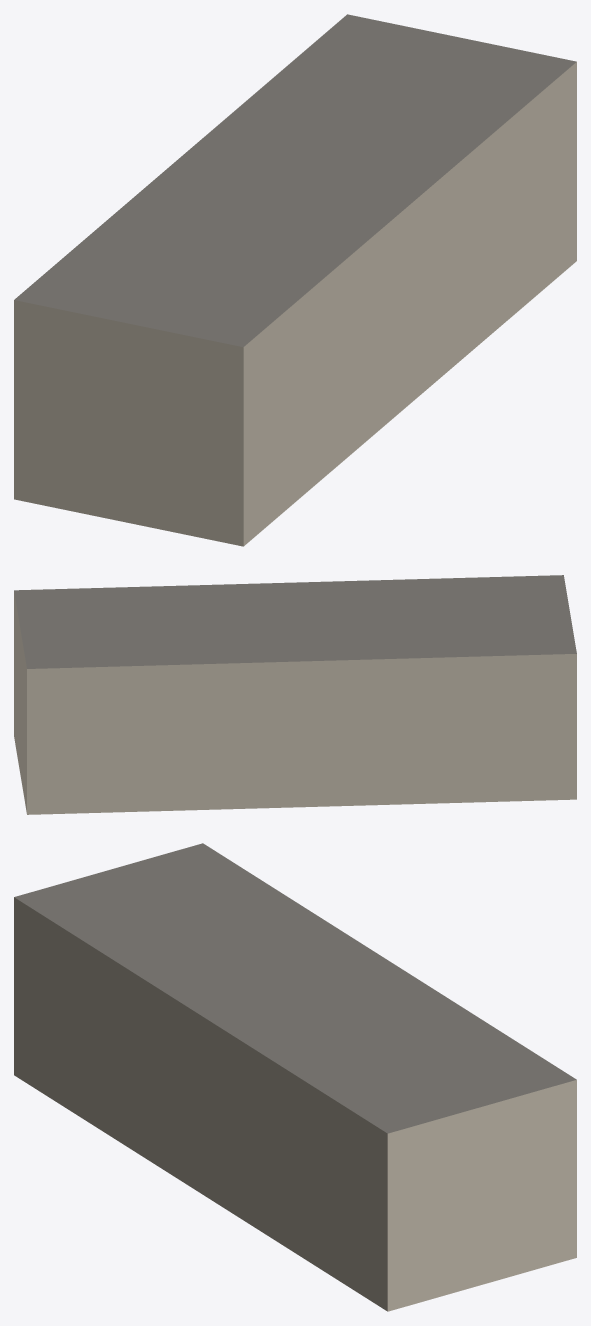
3 views of the same model, one above another, from view 1: azimuth 30°, elevation 25°; view 2: azimuth 150°, elevation 25°; view 3: azimuth 270°, elevation 25° (orthographic). The views are drawn at different scales.
Visible parts, largest first — view 1: HP-w693448965; view 2: HP-w693448965; view 3: HP-w693448965.
Boxes of the visible parts, x1,y1,x2,y2 form: HP-w693448965: (14,14,576,546); HP-w693448965: (14,575,576,814); HP-w693448965: (14,843,576,1311).
Size of the model in its own units: 41.97 by 12 by 34.38.
